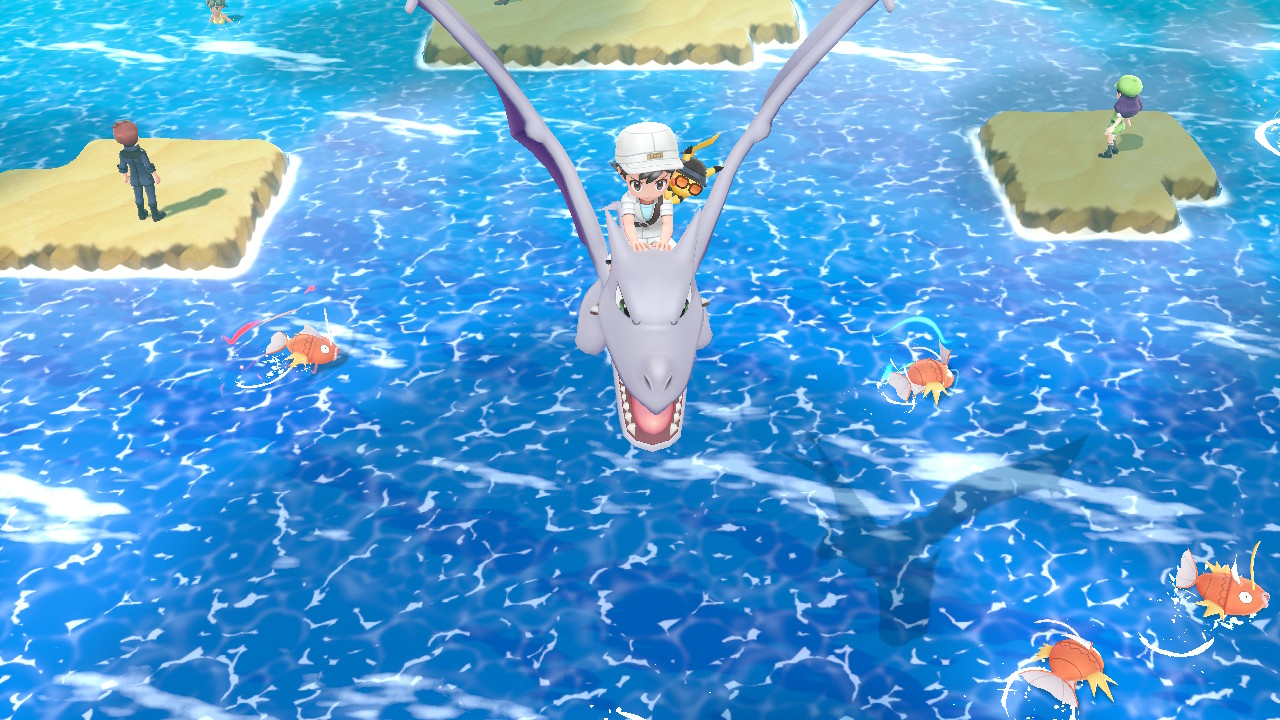Red: (1010, 617, 1115, 717), (1172, 547, 1275, 629), (878, 350, 965, 412), (266, 317, 343, 378)
